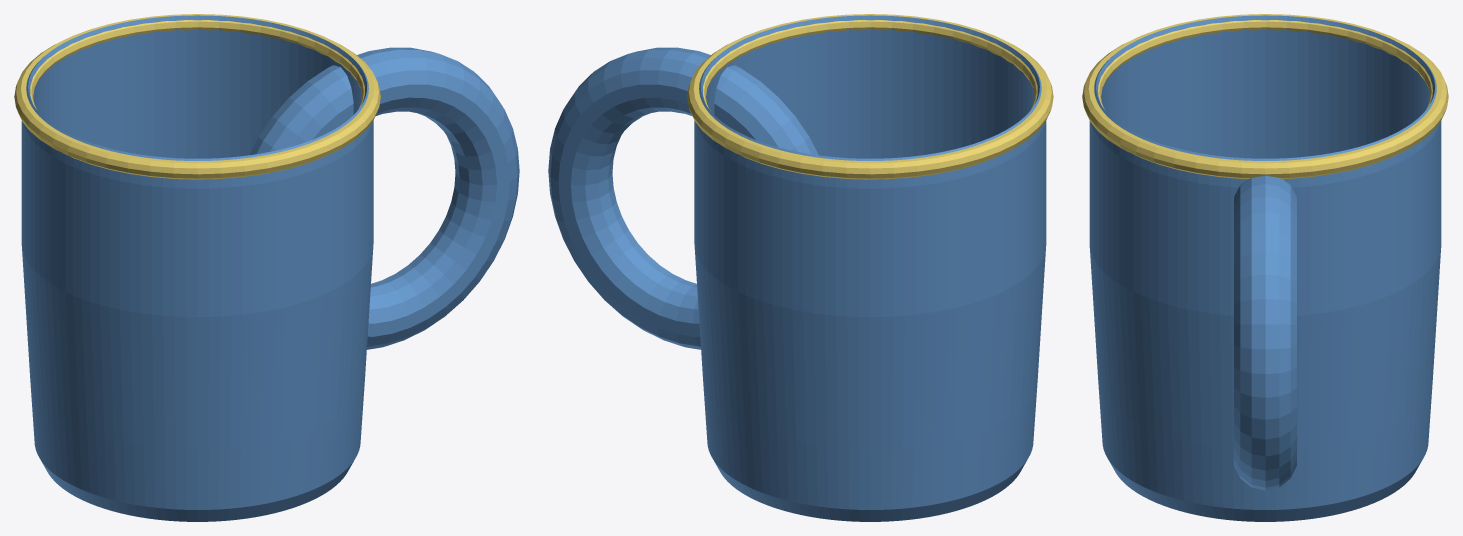
Rendered from mug_blue.glb.
3 views of the same model, side by side, from view 1: azimuth 30°, elevation 25°; view 2: azimuth 150°, elevation 25°; view 3: azimuth 270°, elevation 25° (orthographic).
Visible parts, largest first — view 1: CeramicMug, MugHandle, MugAccent; view 2: CeramicMug, MugHandle, MugAccent; view 3: CeramicMug, MugHandle, MugAccent.
Part boxes in pixels (bbox=[...]): CeramicMug: bbox=[21, 15, 373, 521]; MugHandle: bbox=[249, 47, 519, 349]; MugAccent: bbox=[14, 14, 380, 179]; CeramicMug: bbox=[694, 15, 1046, 521]; MugHandle: bbox=[548, 47, 818, 349]; MugAccent: bbox=[687, 14, 1053, 179]; CeramicMug: bbox=[1089, 15, 1441, 521]; MugHandle: bbox=[1234, 175, 1296, 490]; MugAccent: bbox=[1082, 14, 1448, 179].
Size of the model in its own units: 0.1282 by 0.095 by 0.0854.
